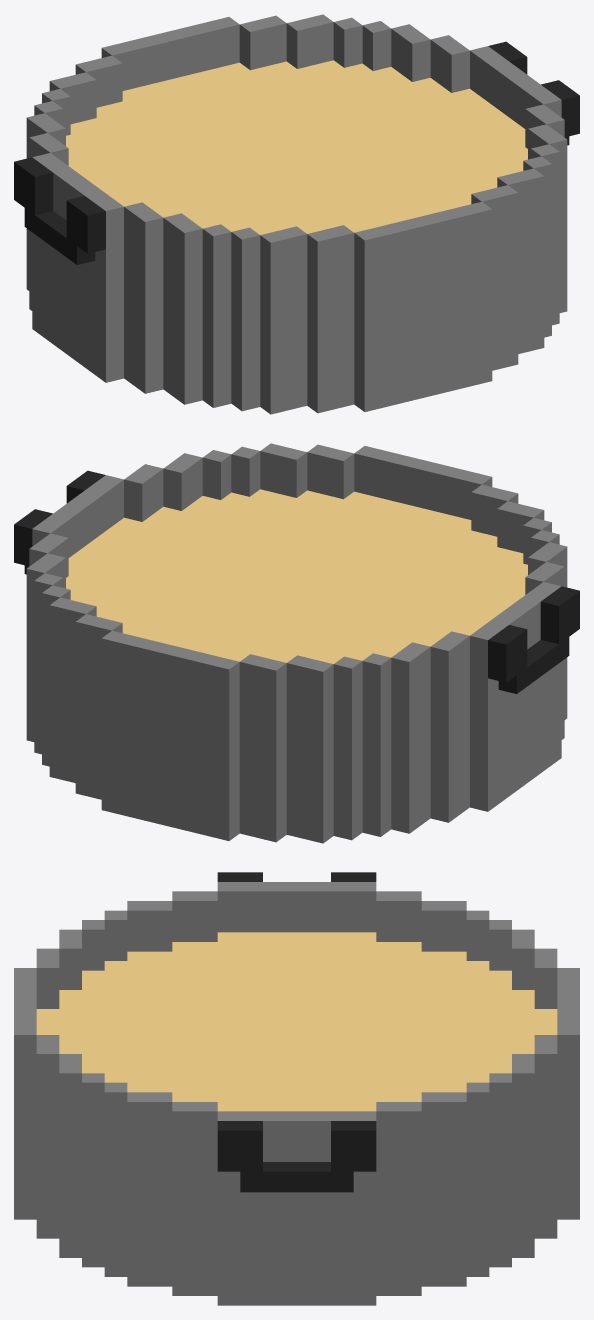
Rendered from Pot_Soy.fbx.
The picture shows the model from 3 angles, top to bottom: view 1: azimuth 30°, elevation 25°; view 2: azimuth 150°, elevation 25°; view 3: azimuth 270°, elevation 25°; orthographic projection. The views are drawn at different scales.
Visible parts, largest first — view 1: Pot_Soy:Pot_Soy; view 2: Pot_Soy:Pot_Soy; view 3: Pot_Soy:Pot_Soy.
Boxes of the visible parts, x1,y1,x2,y2 form: Pot_Soy:Pot_Soy: (14,14,579,414); Pot_Soy:Pot_Soy: (14,443,579,843); Pot_Soy:Pot_Soy: (14,872,579,1305).
Bounding box in the file's own units: 27 × 9 × 25.
